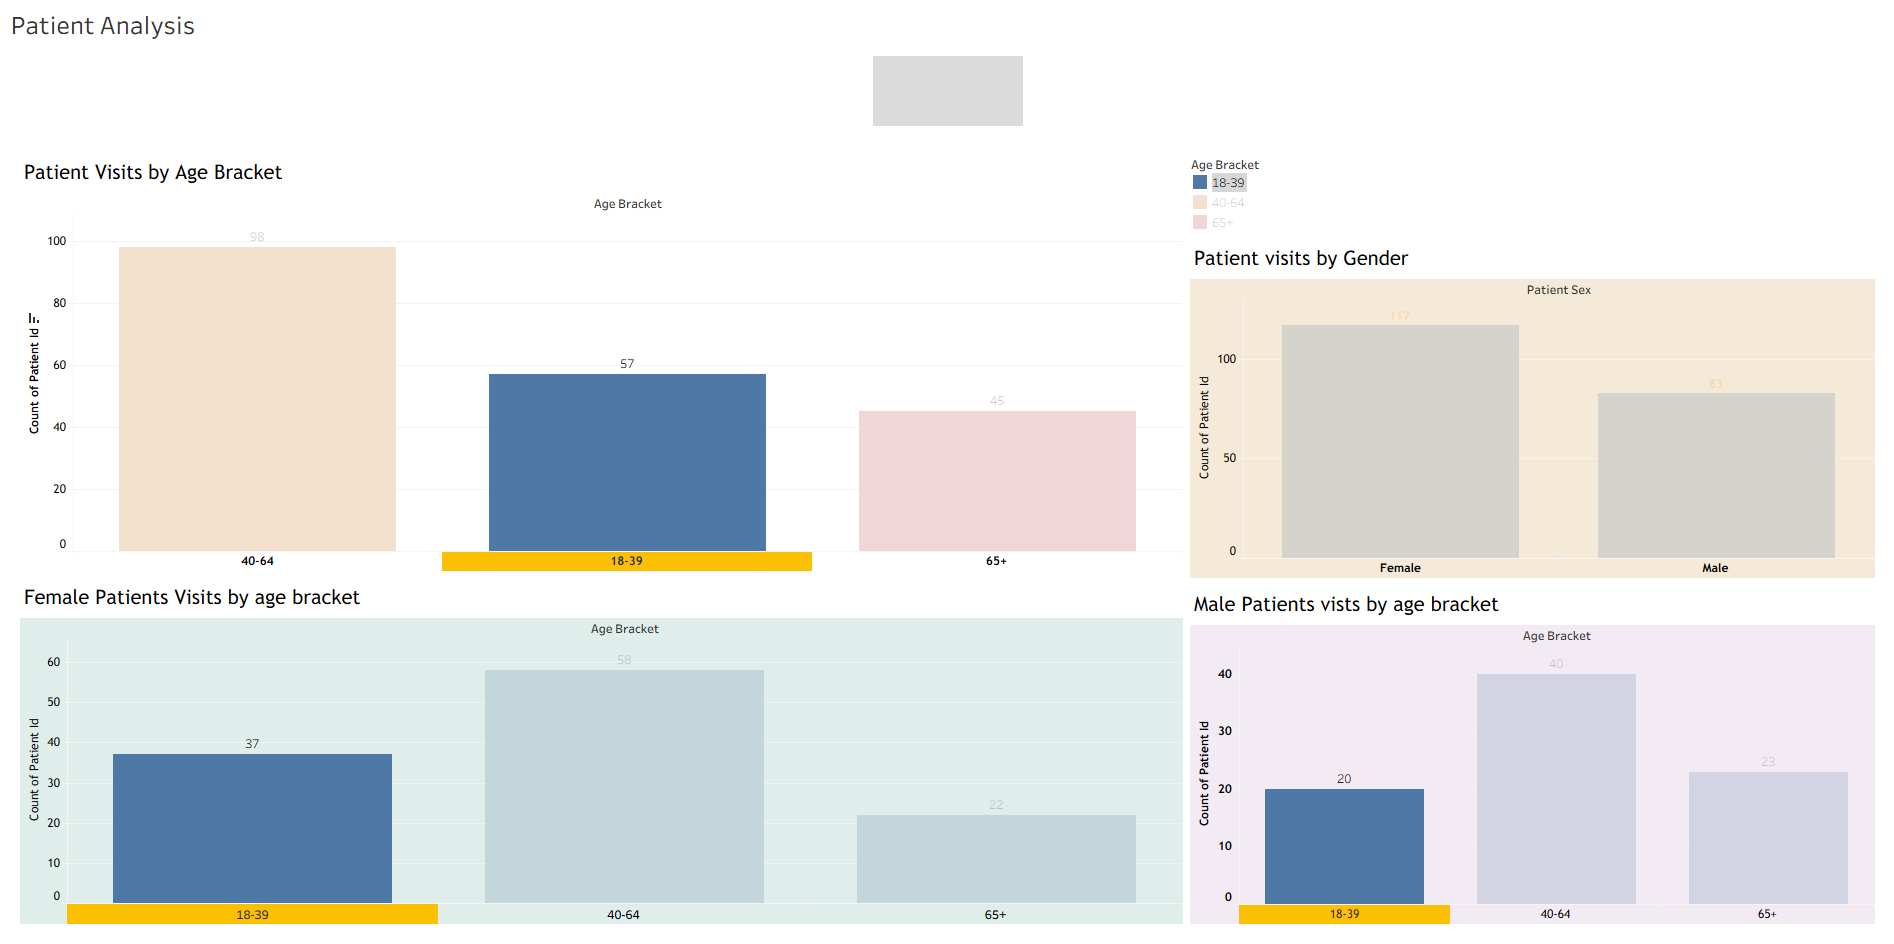

Layout of this report page (visuals, bound fields, positions):
{"tool":"tableau","page":{"name":"Dashboard 1","canvas":[1000,1000],"units":"permille","ordinal":0},"visuals":[{"type":"worksheet","title":"Patient Distribution by Age Bracket","mark":"Bar","rows":["patient_id"],"cols":["age_bracket"],"box":[4.2,8.5,626.2,536.9]},{"type":"legend","title":"Patient Distribution by Age Bracket","param":"[federated.0vbg1a30r1tzva140hymb0y9a0nx].[none:age_bracket:nk]","box":[630.4,8.5,365.4,91.1]},{"type":"worksheet","title":"Patient Demographic;Gender","mark":"Automatic","rows":["patient_id"],"cols":["patient_sex"],"box":[630.4,99.6,365.4,446]},{"type":"worksheet","title":"Female Patients:Age Distribution","mark":"Automatic","rows":["patient_id"],"cols":["age_bracket"],"box":[4.2,545.4,626.2,446.1]},{"type":"worksheet","title":"Male Patients:Age Distribution","mark":"Automatic","rows":["patient_id"],"cols":["age_bracket"],"box":[630.4,545.5,365.4,446]}]}

Visuals, with their boxes on the dashboard's canvas, which has no fixed pixel size, in thousandths of its width and height (x1, y1, x2, y2). These are canvas units, not pixel positions in the 1894x944 screenshot, which may show the page scaled, cropped or inside an application window:
"Patient Distribution by Age Bracket" worksheet (Bar marks): bbox=(4, 8, 630, 545)
"Patient Distribution by Age Bracket" legend: bbox=(630, 8, 996, 100)
"Patient Demographic;Gender" worksheet: bbox=(630, 100, 996, 546)
"Female Patients:Age Distribution" worksheet: bbox=(4, 545, 630, 992)
"Male Patients:Age Distribution" worksheet: bbox=(630, 546, 996, 992)
